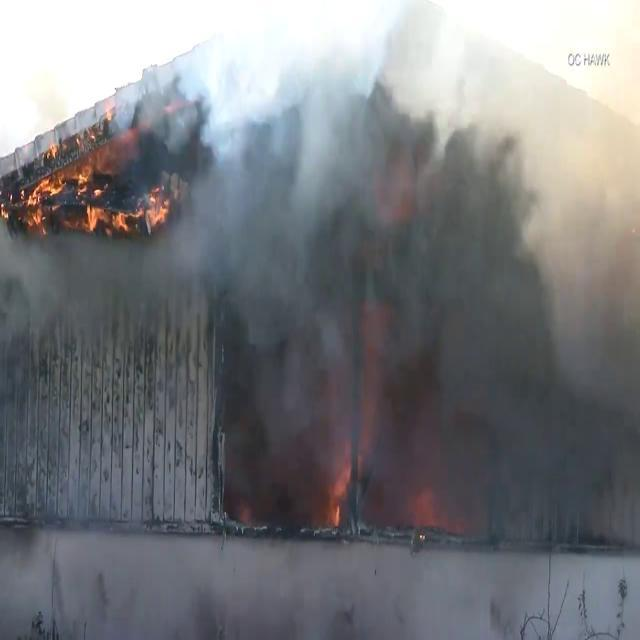Fire: (18, 142, 174, 238), (327, 447, 353, 537)
Smoke: (171, 12, 640, 538)
